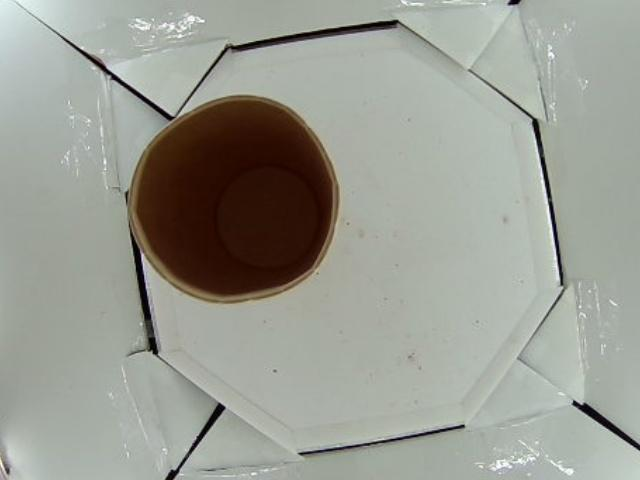Cup: (129, 95, 342, 301)
